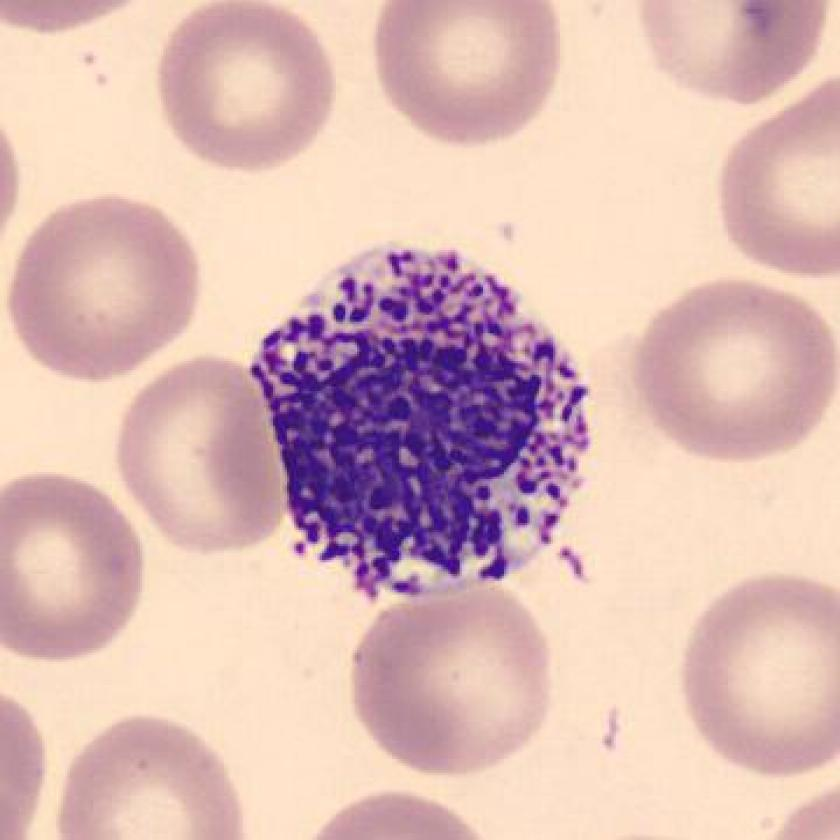basophil: (248, 235, 603, 605)
